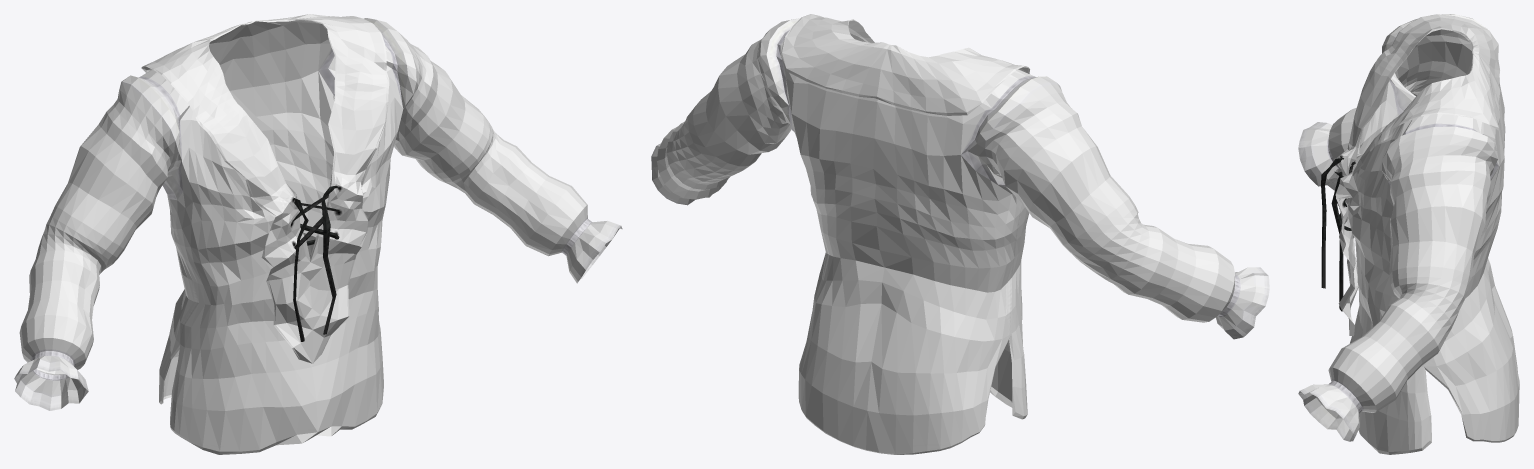
The model's file is mhw_punkduck_lace_up_blouse.glb.
3 renders of one model, left to right at view 1: azimuth 30°, elevation 25°; view 2: azimuth 150°, elevation 25°; view 3: azimuth 270°, elevation 25°, orthographic. The views are drawn at different scales.
Visible parts, largest first — view 1: mhw_punkduck_lace_up_blouse; view 2: mhw_punkduck_lace_up_blouse; view 3: mhw_punkduck_lace_up_blouse.
Part boxes in pixels (x1,y1,x2,y2): mhw_punkduck_lace_up_blouse: (14, 14, 622, 454); mhw_punkduck_lace_up_blouse: (651, 14, 1269, 454); mhw_punkduck_lace_up_blouse: (1298, 14, 1519, 454).
Bounding box in the file's own units: 1.14 × 0.6907 × 0.3737.
Materials: 1 (1 with a texture image).
